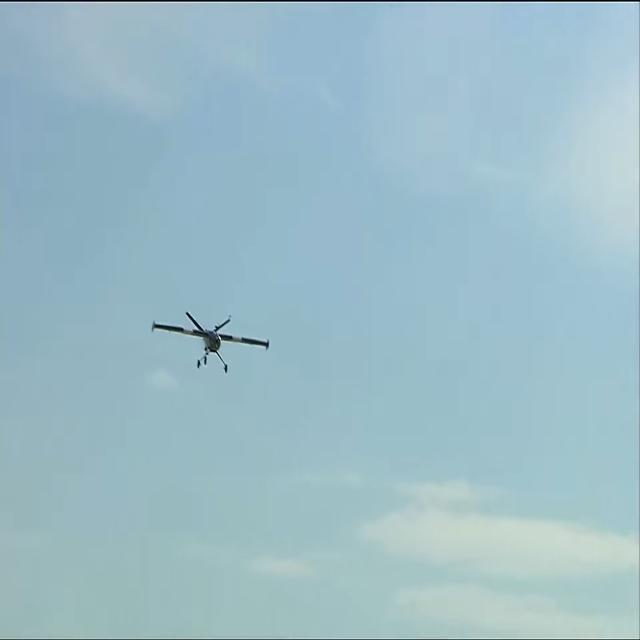iha: (179, 340, 240, 345)
